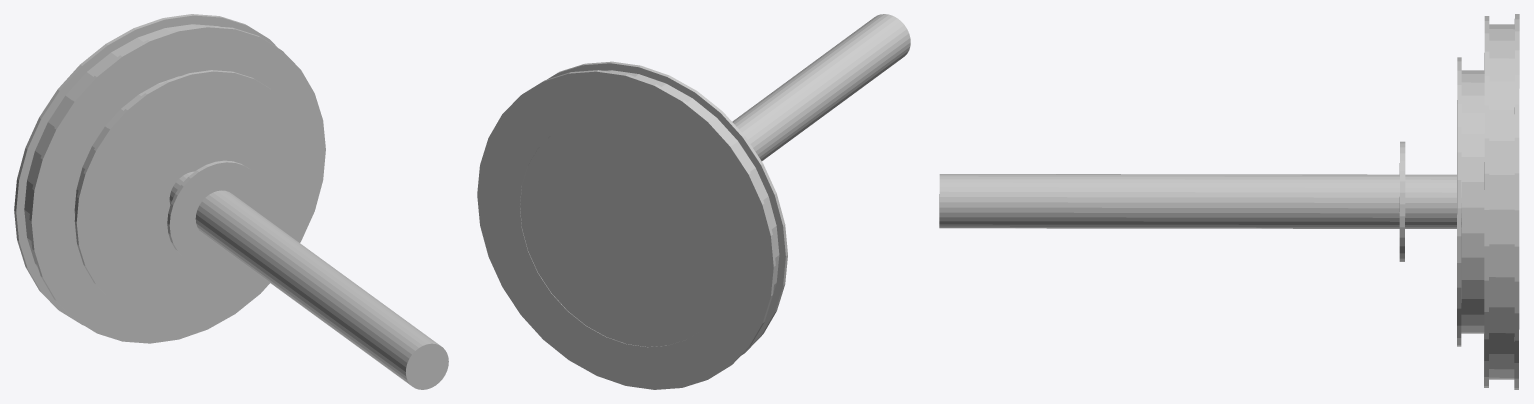
3 views of the same model, side by side, from view 1: azimuth 30°, elevation 25°; view 2: azimuth 150°, elevation 25°; view 3: azimuth 270°, elevation 25° (orthographic). The views are drawn at different scales.
Parts seen in each view (by area): view 1: 柱体.013; view 2: 柱体.013; view 3: 柱体.013.
Boxes of the visible parts, x1,y1,x2,y2 form: 柱体.013: [14, 14, 448, 389]; 柱体.013: [477, 14, 910, 389]; 柱体.013: [939, 14, 1519, 389].
Size of the model in its own units: 2.91 by 2.91 by 4.49.
